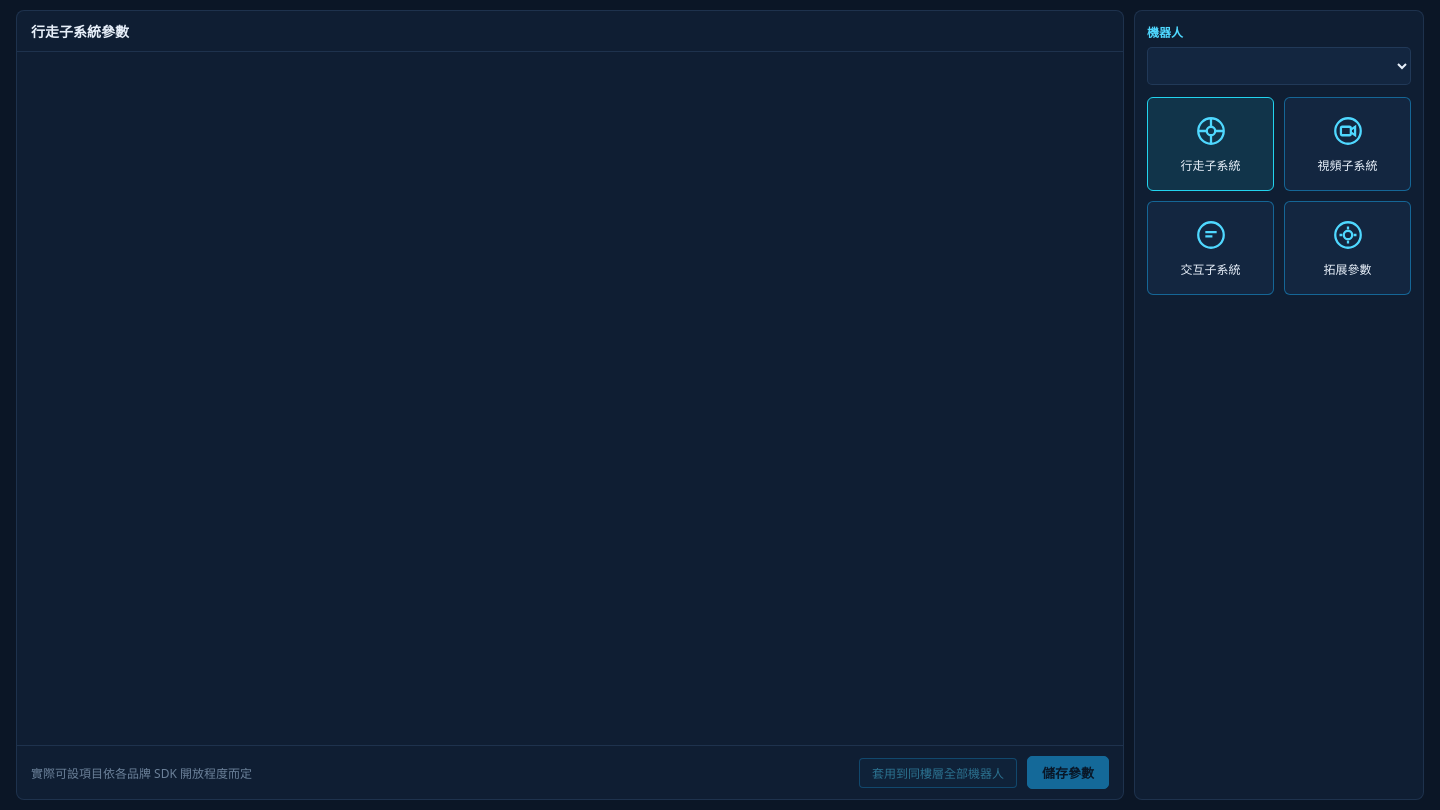
Test: 機器人參數（T-27） › 數字超出範圍：顯示錯誤、不能儲存
Click the tab "交互子系統". click: (1210, 248)
box: [1147, 201, 1274, 295]
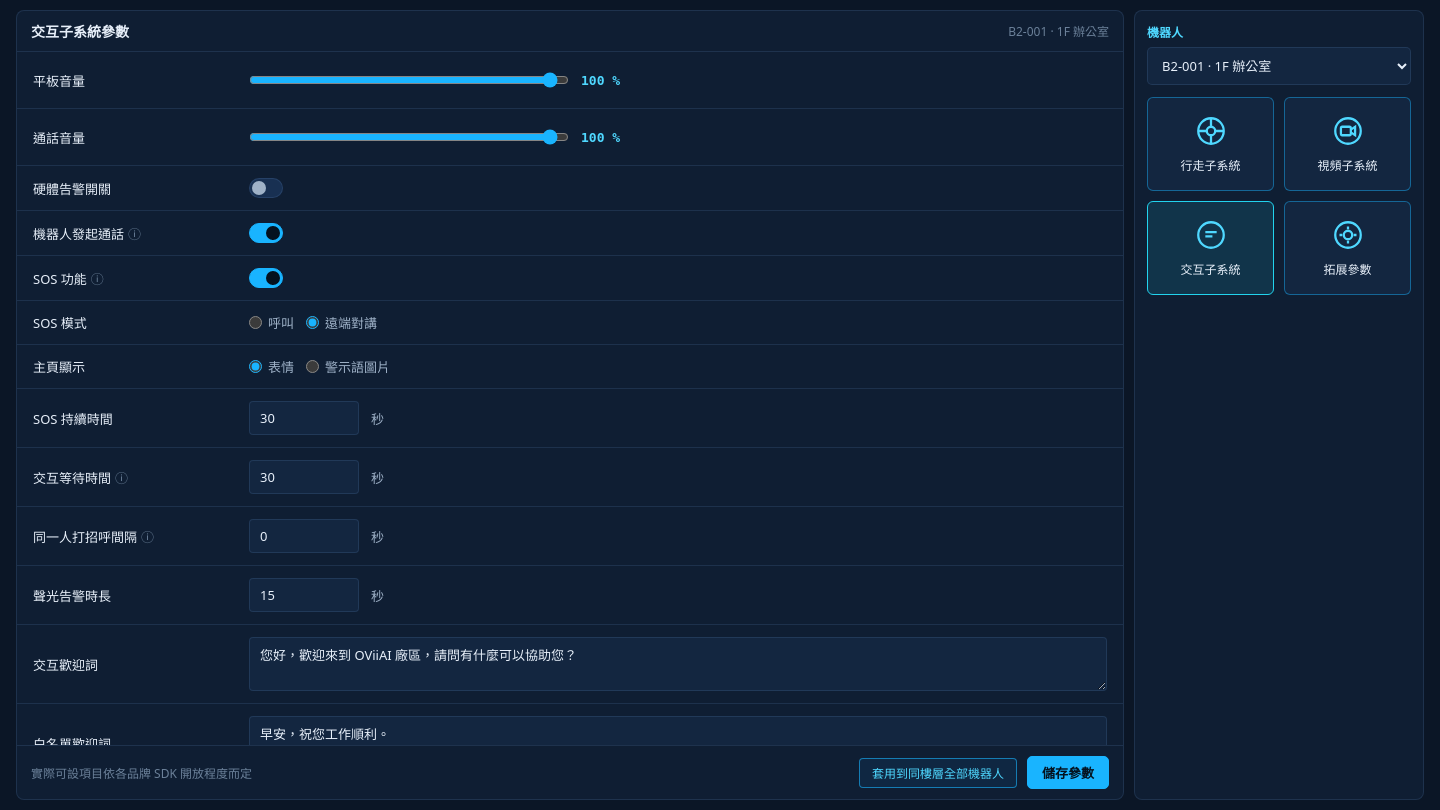
Replace the text in the number field named "交互等待時間" with "999". click: (304, 477)
box: [249, 460, 359, 494]
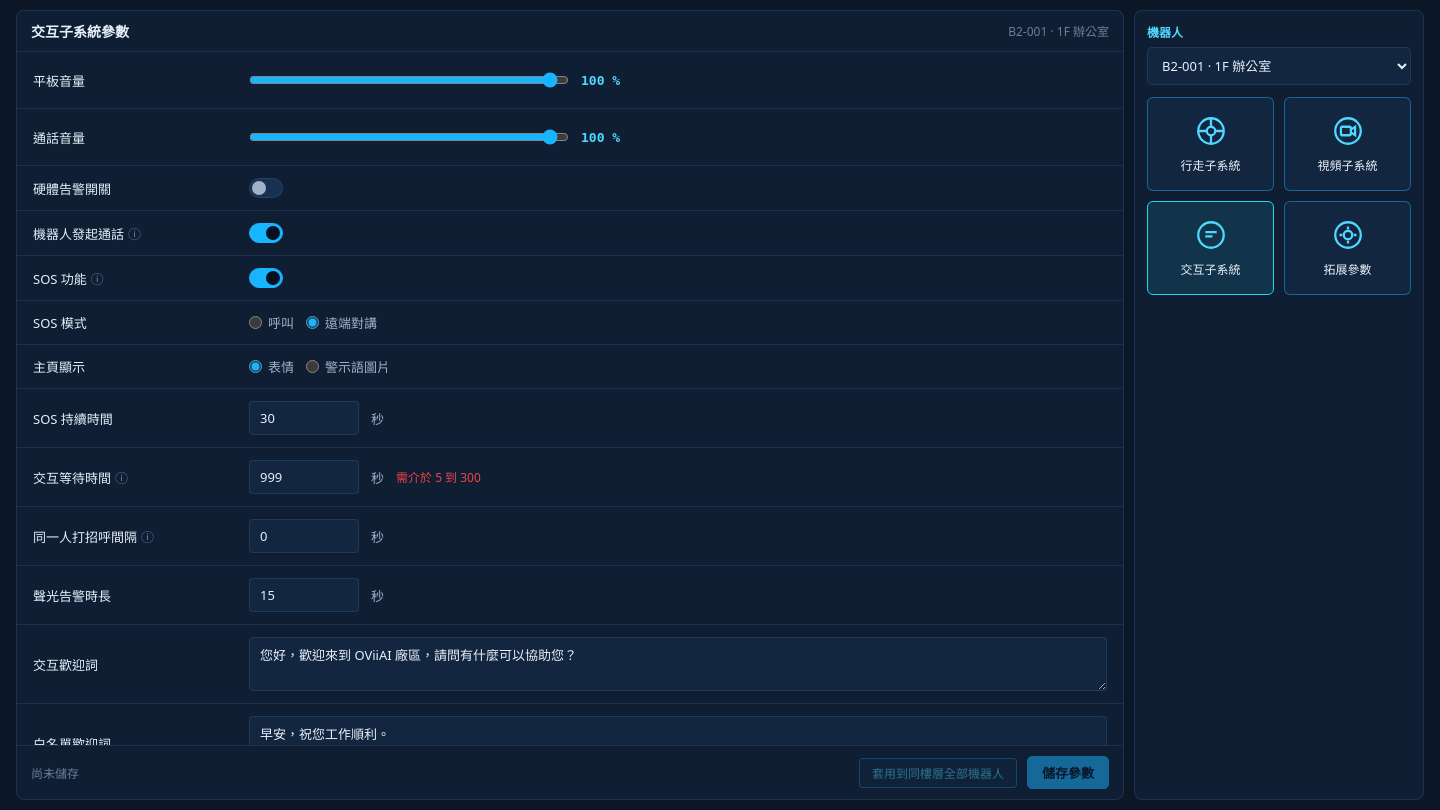
Result: the message reads "需介於 5 到 300" at [396, 469, 481, 486]
Result: the button "儲存參數" is disabled at [1027, 756, 1109, 789]
